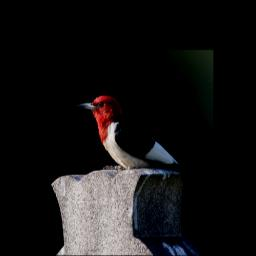Woodpecker: (73, 93, 200, 186)
